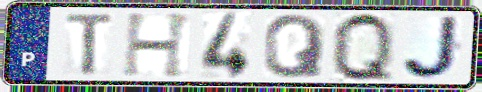4: (198, 10, 254, 81)
H: (119, 11, 196, 79)
J: (399, 14, 464, 82)
Q: (329, 10, 397, 86), (261, 12, 330, 80)
T: (63, 11, 117, 78)
